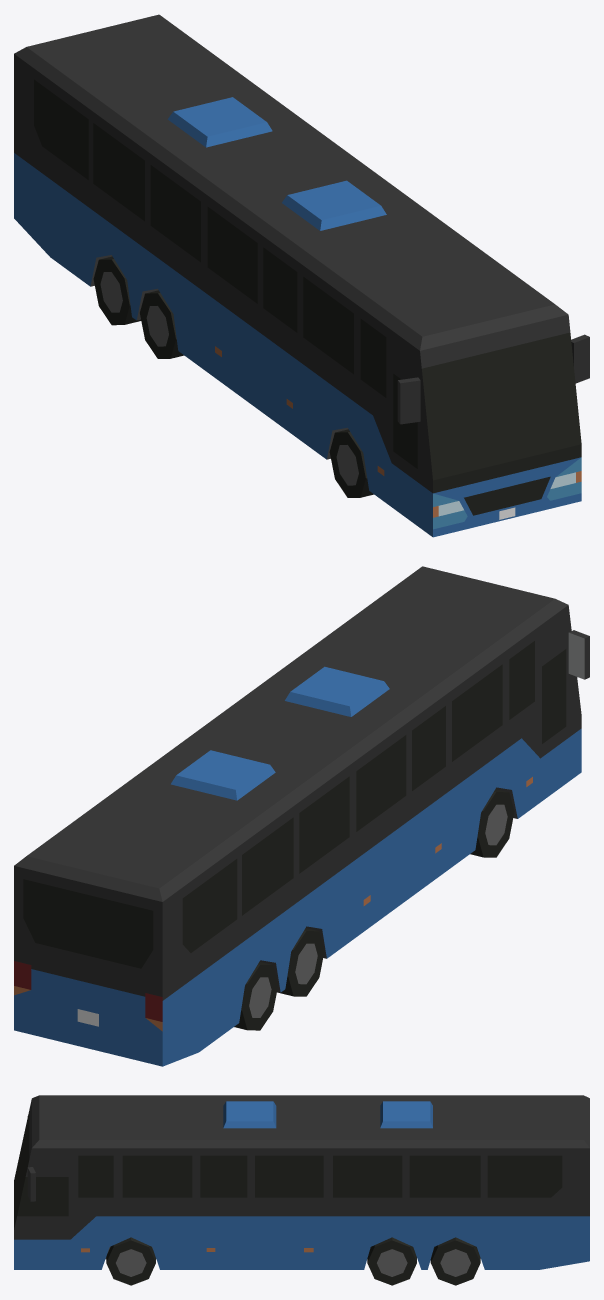
The model's file is Veh_Coach_01_Blue.obj.
3 renders of one model, top to bottom at view 1: azimuth 30°, elevation 25°; view 2: azimuth 150°, elevation 25°; view 3: azimuth 270°, elevation 25°, orthographic. The views are drawn at different scales.
Bounding box in the file's own units: 1.75 × 1.9 × 6.68.
